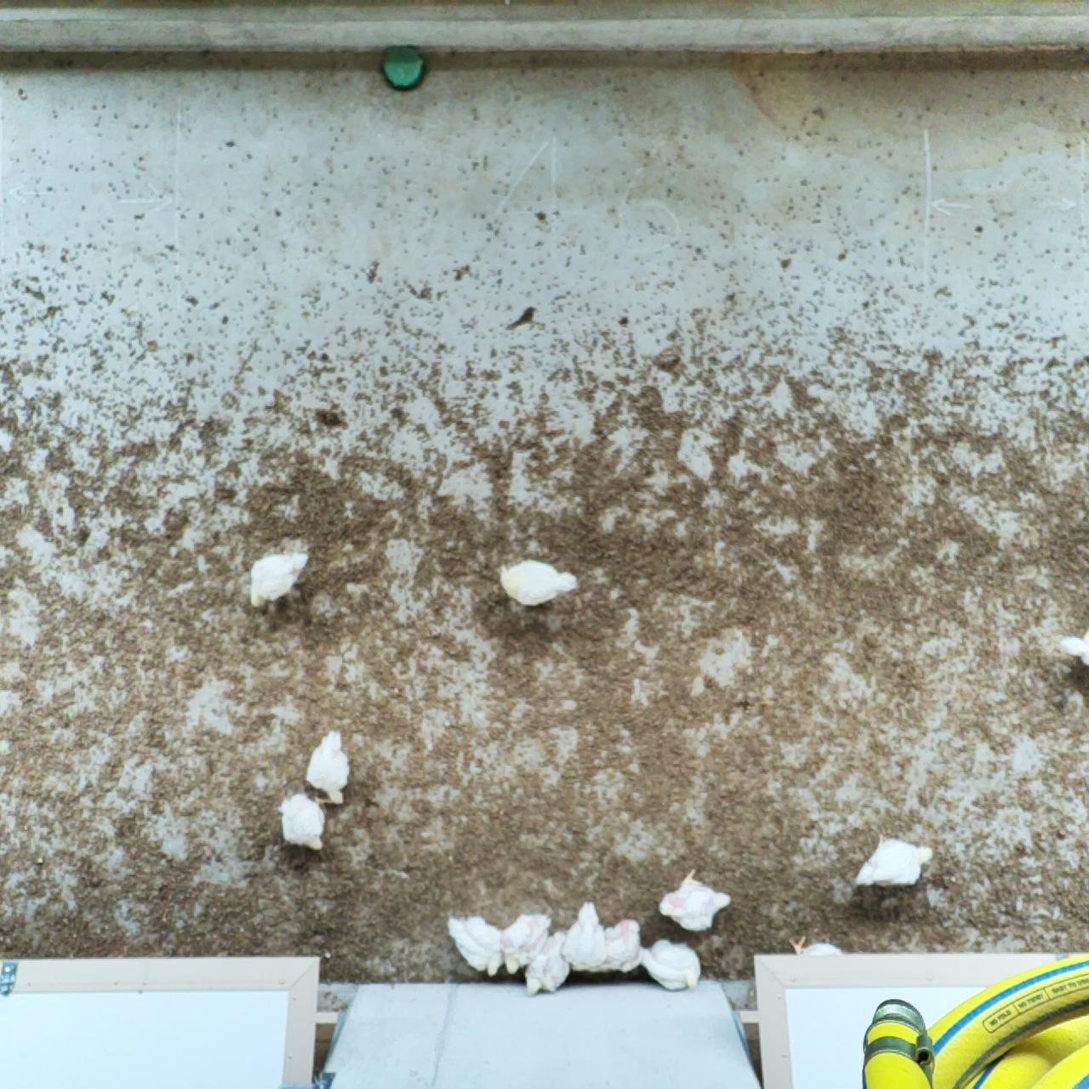chicken: (850, 832, 938, 894), (244, 544, 319, 611), (660, 868, 732, 936), (494, 557, 582, 609), (781, 929, 850, 994), (443, 912, 506, 979), (637, 933, 703, 993), (306, 724, 353, 808), (562, 900, 610, 974), (500, 906, 550, 974), (276, 789, 330, 850), (522, 929, 570, 997), (595, 916, 643, 978), (1054, 629, 1089, 676)
